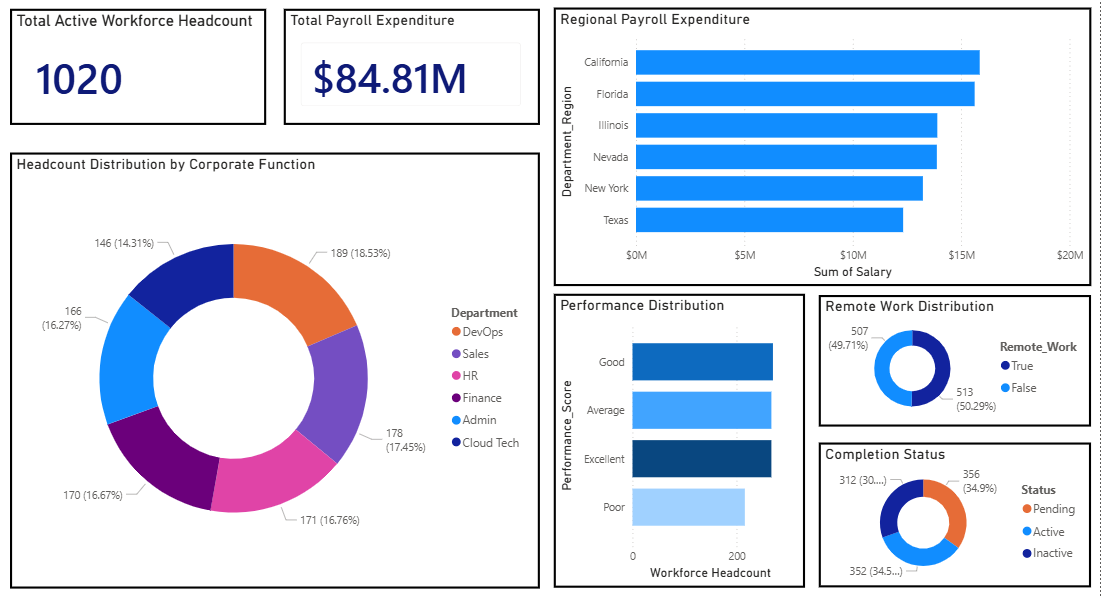

The dashboard page shown, as its layout file describes it:
{"tool":"powerbi","page":{"name":"Page 1","canvas":[1280,720],"ordinal":0},"visuals":[{"type":"cardVisual","title":"Total Payroll Expenditure","fields":{"Data":["Sum(Cleaned_dataset.Salary)"]},"box":[347.1,32.9,292.9,132.9],"z":0},{"type":"donutChart","title":"Headcount Distribution by Corporate Function","fields":{"Category":["Cleaned_dataset.Department"],"Y":["CountNonNull(Cleaned_dataset.Department)"]},"box":[34.3,197.1,605.7,498.6],"z":1000},{"type":"clusteredBarChart","title":"Regional Payroll Expenditure","fields":{"Category":["Cleaned_dataset.Department_Region"],"Y":["Sum(Cleaned_dataset.Salary)"]},"box":[655.7,31.4,614.3,318.6],"z":2000},{"type":"cardVisual","title":"Total Active Workforce Headcount","fields":{"Data":["CountNonNull(Cleaned_dataset.Employee_ID)"]},"box":[34.3,32.9,292.9,132.9],"z":3000},{"type":"donutChart","title":"Remote Work Distribution","fields":{"Category":["Cleaned_dataset.Remote_Work"],"Y":["CountNonNull(Cleaned_dataset.Employee_ID)"]},"box":[958.6,360,311.4,150],"z":4000},{"type":"clusteredBarChart","title":"Performance Distribution","fields":{"Y":["CountNonNull(Cleaned_dataset.Department)"],"Category":["Cleaned_dataset.Performance_Score"]},"box":[655.7,358.6,287.1,335.7],"z":5000},{"type":"donutChart","title":"Completion Status","fields":{"Category":["Cleaned_dataset.Status"],"Y":["CountNonNull(Cleaned_dataset.Status)"]},"box":[958.6,528.6,311.4,165.7],"z":5001}]}

Visuals, with their boxes in screenshot pixels (x1, y1, x2, y2):
"Total Payroll Expenditure" cardVisual: Rect(278, 3, 536, 120)
"Headcount Distribution by Corporate Function" donutChart: Rect(2, 148, 536, 588)
"Regional Payroll Expenditure" clusteredBarChart: Rect(550, 2, 1092, 283)
"Total Active Workforce Headcount" cardVisual: Rect(2, 3, 260, 120)
"Remote Work Distribution" donutChart: Rect(817, 292, 1092, 424)
"Performance Distribution" clusteredBarChart: Rect(550, 291, 803, 587)
"Completion Status" donutChart: Rect(817, 441, 1092, 587)
